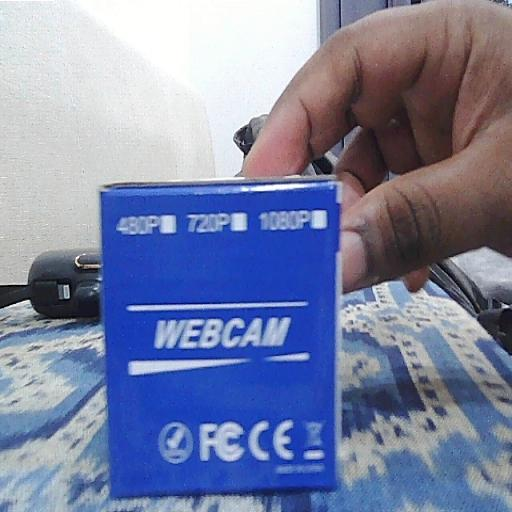webcam_box: (98, 175, 344, 500)
